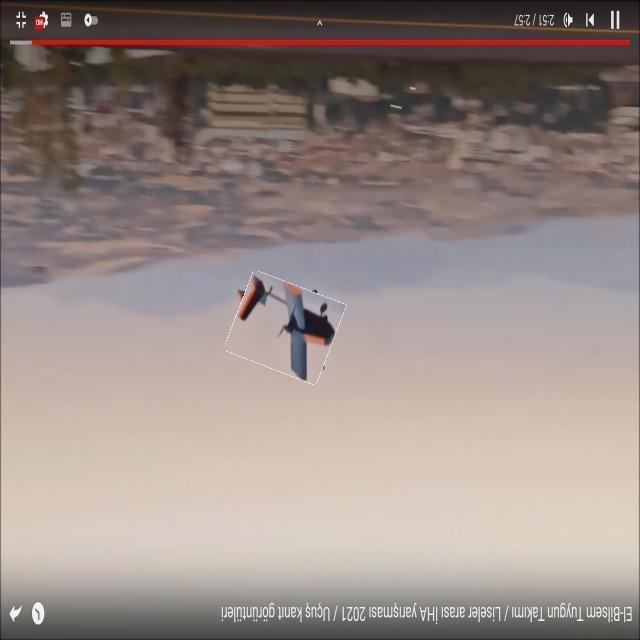Airplane: (232, 260, 344, 379)
